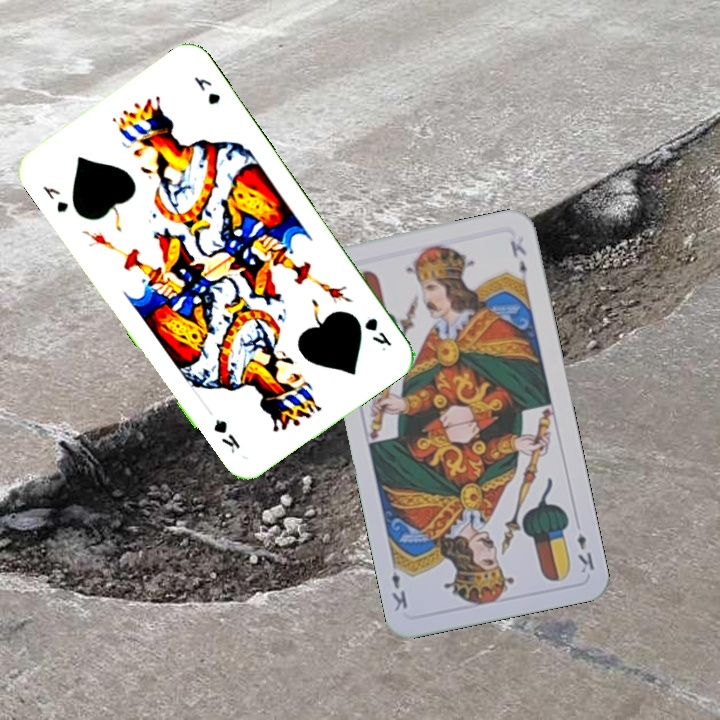EK: (573, 529, 597, 576)
GK: (360, 313, 394, 354), (38, 181, 71, 216)
